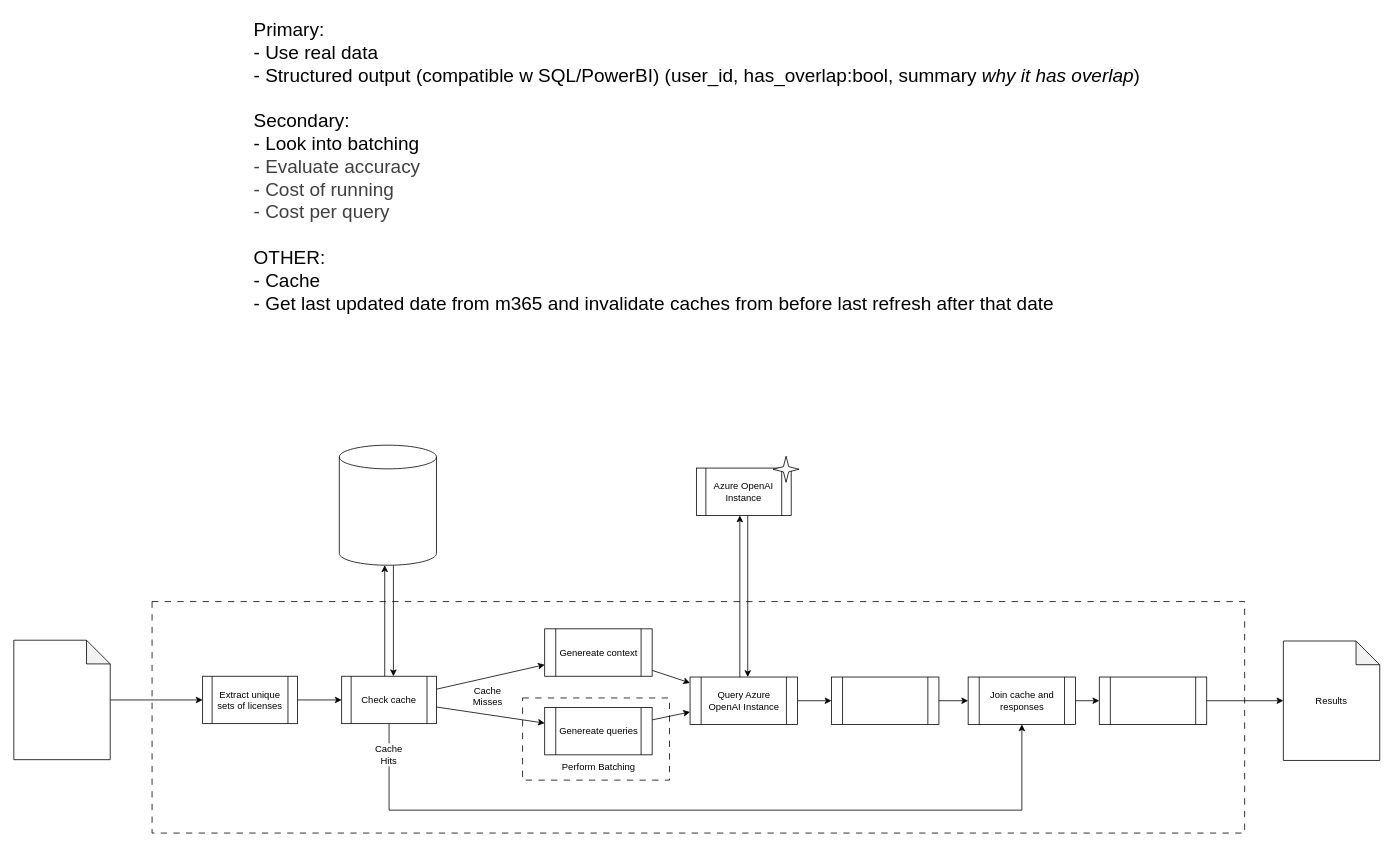
Some shapes in this 1394 by 847 pixel diagram are drawn without their labels. The centre of each missing label's shape, as x and y in pixels:
"Cache key=set of licenses" goes at point (387, 504).
"CSV (user_ids, licenses)" goes at point (61, 699).
"Format output" goes at point (1152, 700).
"Unpack responses" goes at point (885, 700).
